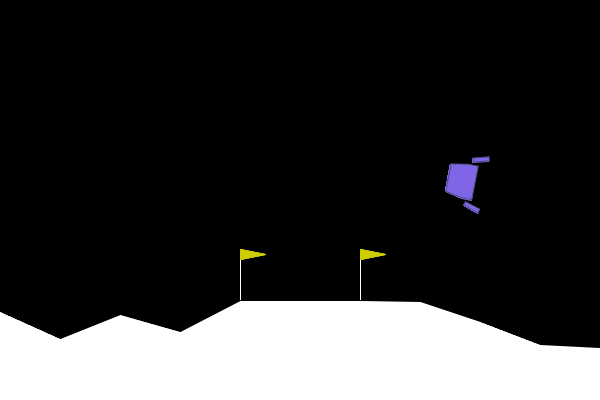lander: (440, 148, 491, 215)
